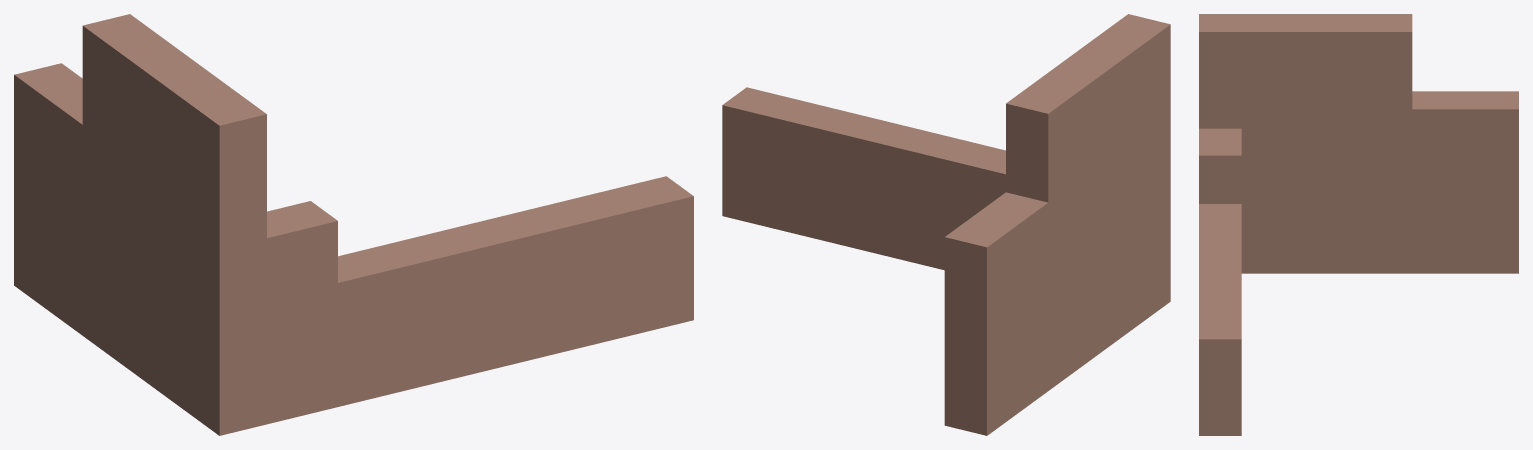
The model's file is three-d-zombie-quarantine-streets-zombie-quarantine-streets-collapsed-corner-08dcf17e.glb.
3 renders of one model, left to right at view 1: azimuth 30°, elevation 25°; view 2: azimuth 150°, elevation 25°; view 3: azimuth 270°, elevation 25°, orthographic. The views are drawn at different scales.
Visible parts, largest first — view 1: collapsed-corner; view 2: collapsed-corner; view 3: collapsed-corner.
Part boxes in pixels (x1,y1,x2,y2): collapsed-corner: [14, 14, 693, 435]; collapsed-corner: [722, 14, 1170, 435]; collapsed-corner: [1199, 14, 1518, 435].
Bounding box in the file's own units: 4 × 2.5 × 3.
